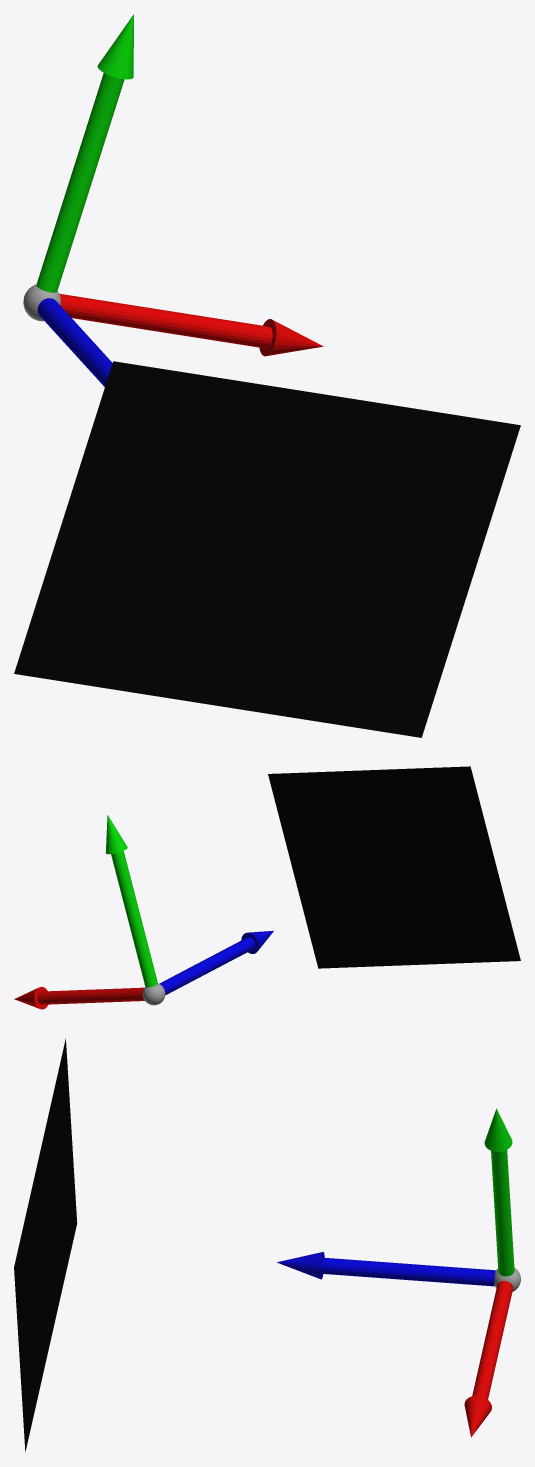
The picture shows the model from 3 angles, top to bottom: view 1: azimuth 30°, elevation 25°; view 2: azimuth 150°, elevation 25°; view 3: azimuth 270°, elevation 25°; orthographic projection. The views are drawn at different scales.
Bounding box in the file's own units: 0.2629 × 0.2101 × 0.2712.
